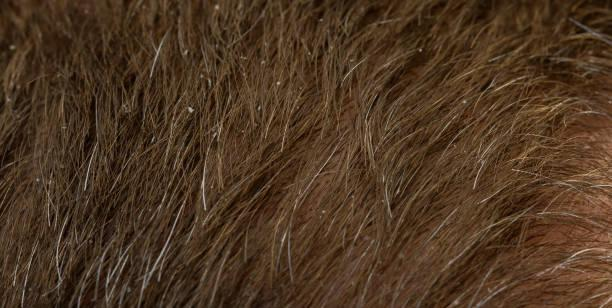dandruff: (268, 73, 287, 89), (180, 102, 196, 117), (180, 46, 195, 61), (55, 122, 71, 134), (302, 48, 316, 59), (207, 4, 225, 12), (254, 101, 264, 113), (318, 207, 329, 216), (32, 174, 40, 186), (415, 48, 427, 55), (459, 99, 470, 106), (239, 53, 247, 62), (86, 138, 92, 143)
